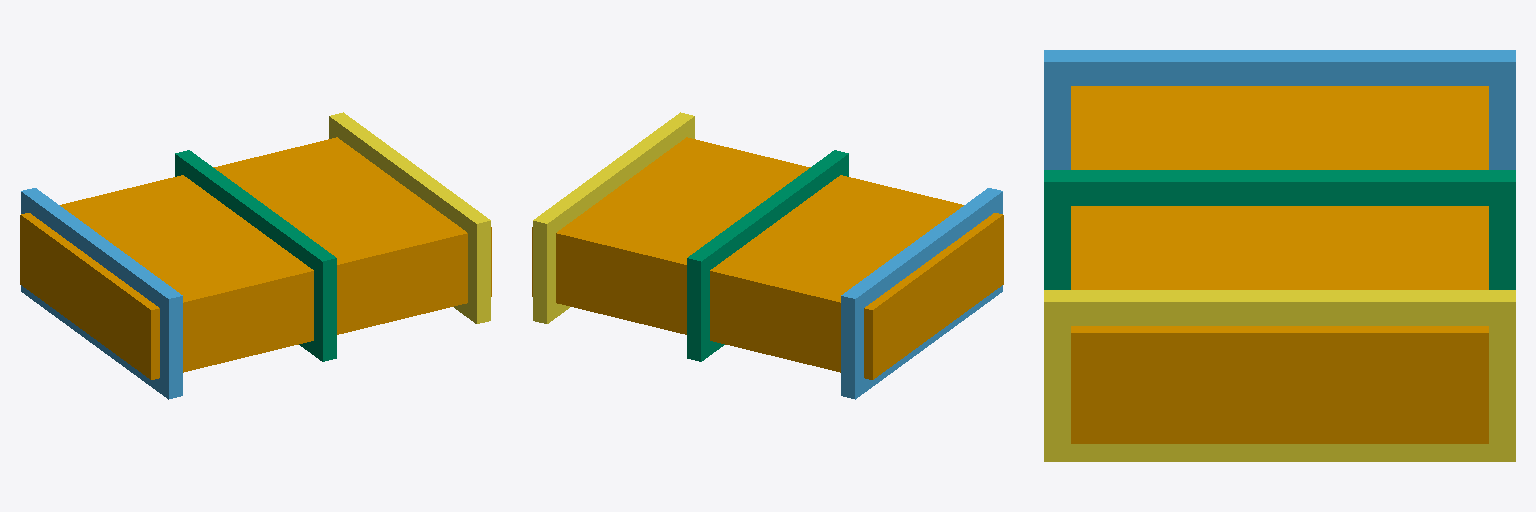
URDF robot description (debris014):
<?xml version="1.0" ?>
<robot name="debris014">

<link name="debris014">
<visual> <origin xyz="0 0 0" rpy="0 0 0" />
<geometry> <box size="1.17 0.78 0.23"/> </geometry>
</visual>
<collision> <origin xyz="0 0 0" rpy="0 0 0" />
<geometry> <box size="1.17 0.78 0.23"/> </geometry>
</collision>
<inertial> <origin xyz="0 0 0" rpy="0 0 0" />
<mass value="10.0" />
<inertia ixx="0.8809" ixy="0" ixz="0" iyy="0.8809" iyz="0" izz="0.8809" />
</inertial>
</link>
<gazebo reference="debris014"> <material>Gazebo/Granite</material> </gazebo>

<link name="debris0140">
<visual> <origin xyz="-0.53 0 0" rpy="0 0 0" />
<geometry> <box size="0.05 0.88 0.33"/> </geometry>
</visual>
<collision> <origin xyz="-0.53 0 0" rpy="0 0 0" />
<geometry> <box size="0.05 0.88 0.33"/> </geometry>
</collision>
<inertial> <origin xyz="0 0 0" rpy="0 0 0" />
<mass value="0.1" />
<inertia ixx="0.0100" ixy="0" ixz="0" iyy="0.0100" iyz="0" izz="0.0100" />
</inertial>
</link>
<gazebo reference="debris0140"> <material>Gazebo/Granite</material> </gazebo>

<joint name="debris0140joint" type="fixed">
<parent link="debris014"/>
<child link="debris0140"/>
<origin xyz="0 0 0" rpy="0 0 0" />
</joint>

<link name="debris0141">
<visual> <origin xyz="0.00 0 0" rpy="0 0 0" />
<geometry> <box size="0.05 0.88 0.33"/> </geometry>
</visual>
<collision> <origin xyz="0.00 0 0" rpy="0 0 0" />
<geometry> <box size="0.05 0.88 0.33"/> </geometry>
</collision>
<inertial> <origin xyz="0 0 0" rpy="0 0 0" />
<mass value="0.1" />
<inertia ixx="0.0100" ixy="0" ixz="0" iyy="0.0100" iyz="0" izz="0.0100" />
</inertial>
</link>
<gazebo reference="debris0141"> <material>Gazebo/Granite</material> </gazebo>

<joint name="debris0141joint" type="fixed">
<parent link="debris014"/>
<child link="debris0141"/>
<origin xyz="0 0 0" rpy="0 0 0" />
</joint>

<link name="debris0142">
<visual> <origin xyz="0.53 0 0" rpy="0 0 0" />
<geometry> <box size="0.05 0.88 0.33"/> </geometry>
</visual>
<collision> <origin xyz="0.53 0 0" rpy="0 0 0" />
<geometry> <box size="0.05 0.88 0.33"/> </geometry>
</collision>
<inertial> <origin xyz="0 0 0" rpy="0 0 0" />
<mass value="0.1" />
<inertia ixx="0.0100" ixy="0" ixz="0" iyy="0.0100" iyz="0" izz="0.0100" />
</inertial>
</link>
<gazebo reference="debris0142"> <material>Gazebo/Granite</material> </gazebo>

<joint name="debris0142joint" type="fixed">
<parent link="debris014"/>
<child link="debris0142"/>
<origin xyz="0 0 0" rpy="0 0 0" />
</joint>

</robot>

--- What the picture shows (computed from the rendered views, not written in the file) ---
Views: 3 orthographic renders of the robot side by side, from view 1: azimuth 30°, elevation 25°; view 2: azimuth 150°, elevation 25°; view 3: azimuth 270°, elevation 25°.
Model debris014 with 4 links and 3 joints (3 fixed), rooted at debris014, posed every joint at zero.
Links seen in each view (by area): view 1: debris014, debris0140, debris0141, debris0142; view 2: debris014, debris0140, debris0141, debris0142; view 3: debris014, debris0142, debris0140, debris0141.
Link boxes in pixels (x1,y1,x2,y2): debris014: [20, 137, 491, 379]; debris0140: [21, 188, 182, 399]; debris0141: [175, 150, 336, 361]; debris0142: [329, 112, 490, 323]; debris014: [532, 137, 1003, 379]; debris0140: [841, 188, 1002, 399]; debris0141: [687, 150, 848, 361]; debris0142: [533, 112, 694, 323]; debris014: [1071, 86, 1488, 443]; debris0142: [1044, 290, 1515, 461]; debris0140: [1044, 50, 1515, 169]; debris0141: [1044, 170, 1515, 289].
Size in the robot's own frame: 1.17 by 0.88 by 0.33 metres.
Geometry: primitives only (box / cylinder / sphere), no mesh files.
